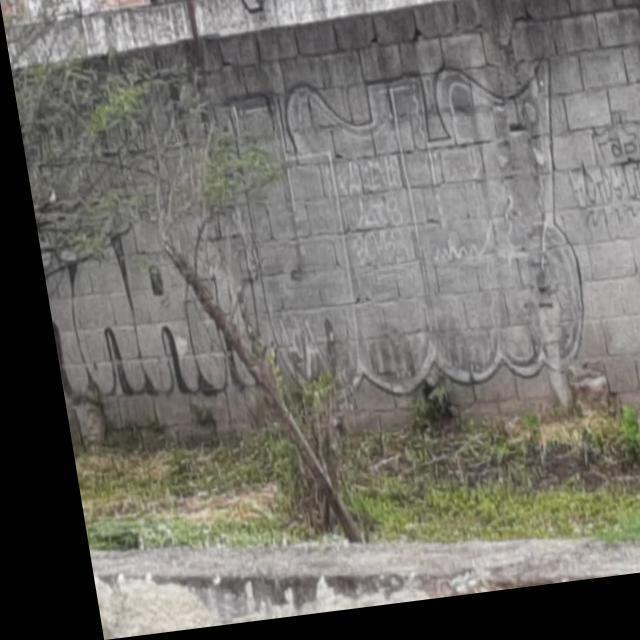nonspitting: (41, 56, 586, 398)
